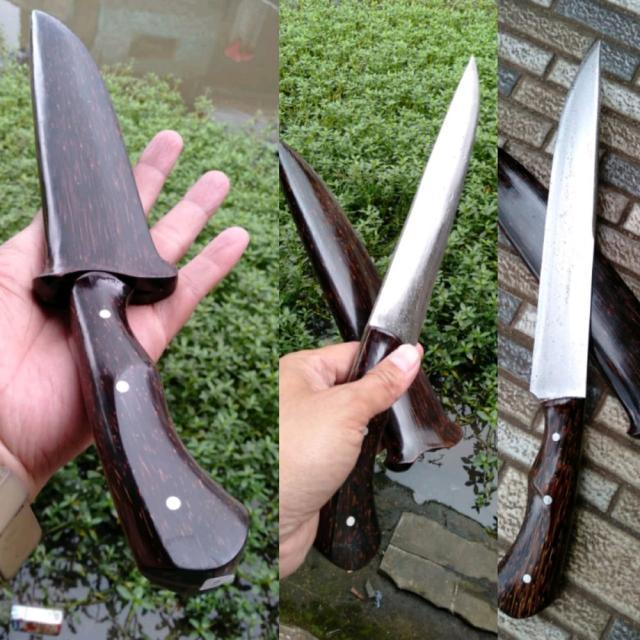Pisau: (481, 18, 611, 626)
